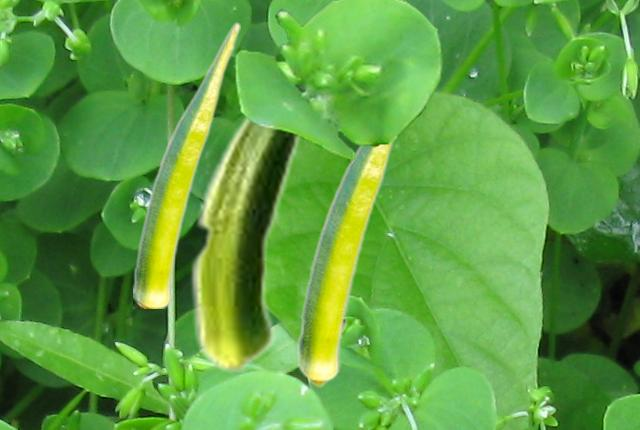okra: (189, 114, 306, 374), (133, 21, 239, 307), (297, 139, 397, 387)
